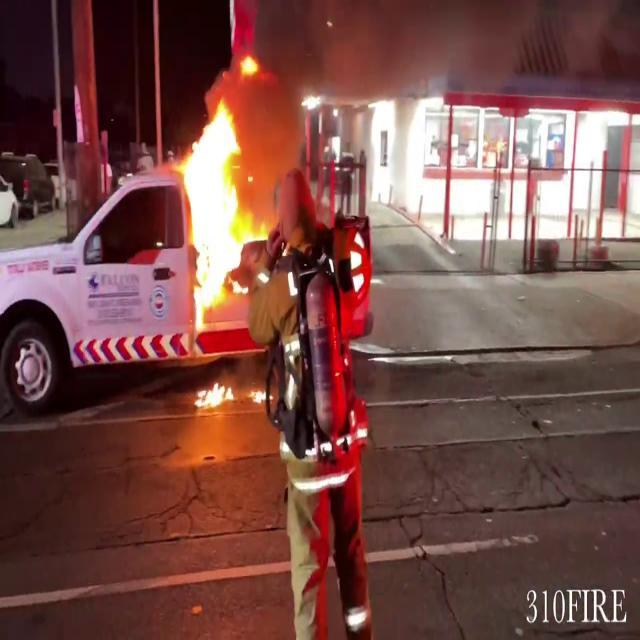Fire: (175, 94, 263, 336), (192, 372, 236, 415)
